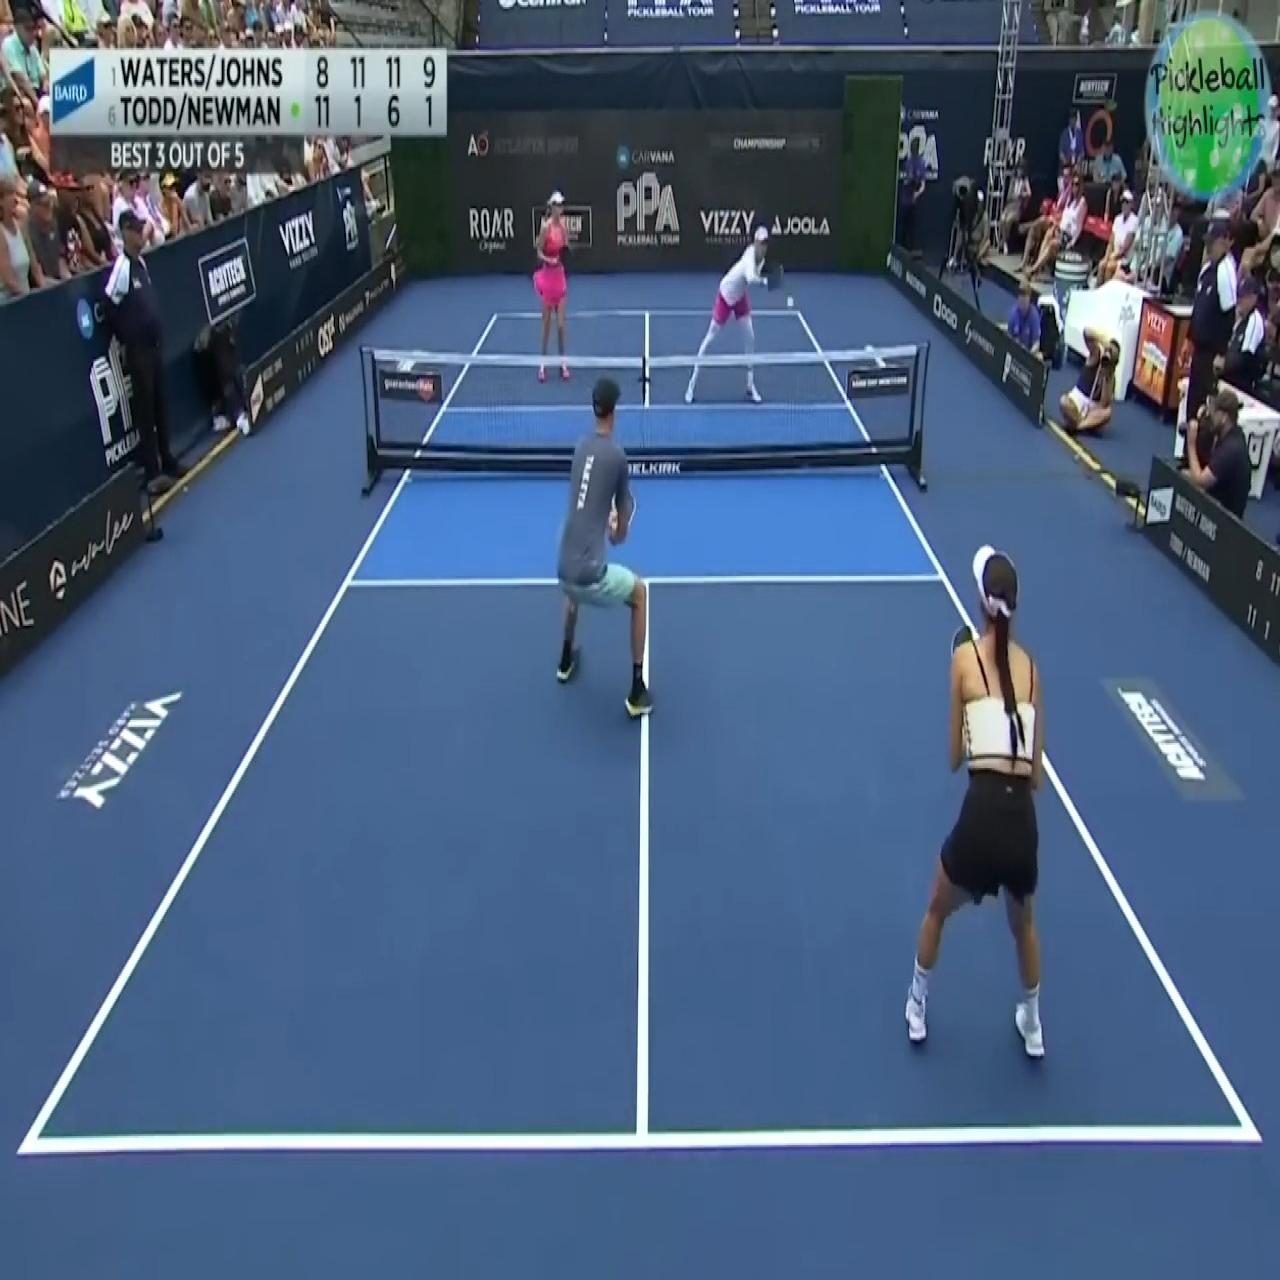Pickleball: (784, 290, 797, 312)
